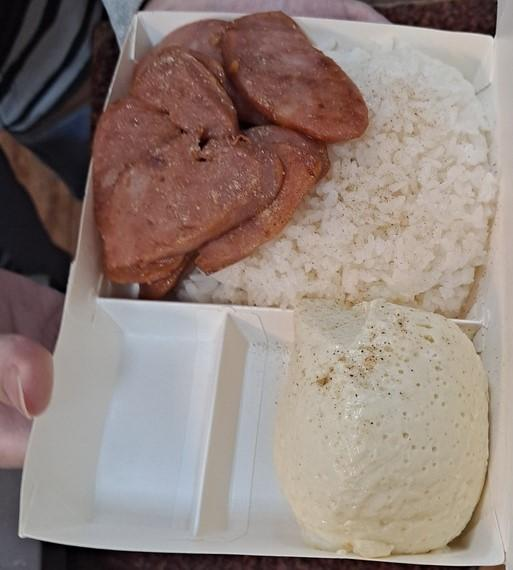big grilled chicken leg: (23, 0, 513, 570)
big herbal chicken leg: (189, 41, 499, 310)
braised fish fillet: (282, 299, 490, 552)
braised pork: (83, 12, 365, 299)
